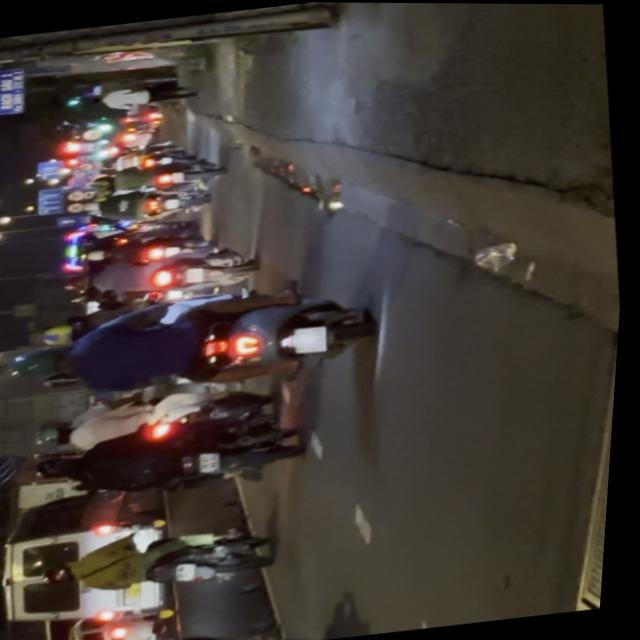helmet: (12, 345, 77, 385), (38, 451, 87, 483), (49, 558, 89, 585)
licenseplate: (4, 274, 385, 414), (33, 398, 323, 510), (46, 516, 291, 601), (22, 610, 377, 640)
nohelmet: (296, 323, 333, 354), (202, 451, 225, 473), (181, 562, 204, 582)
